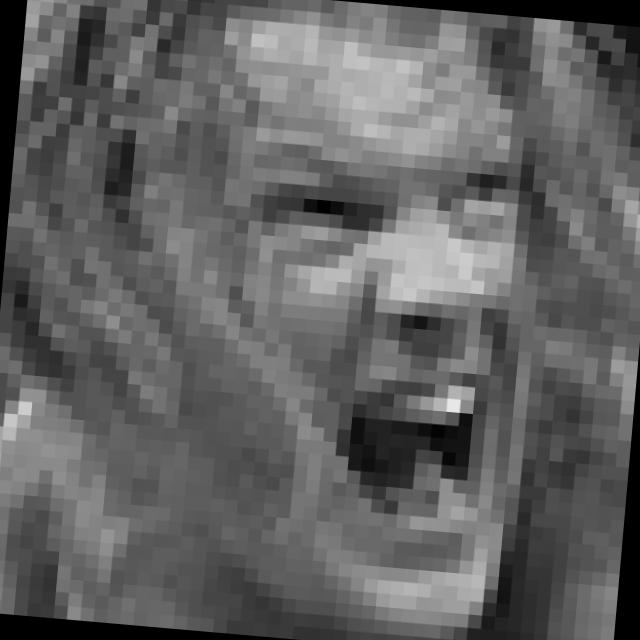angry: (215, 99, 532, 570)
